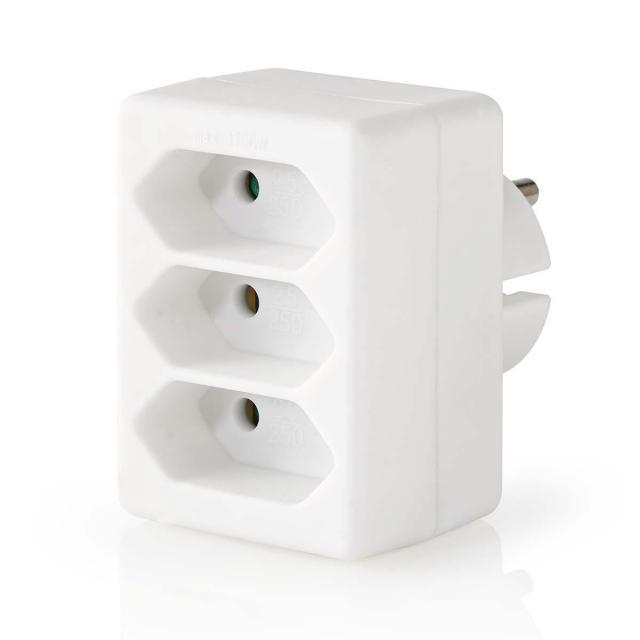typeb: (117, 52, 378, 577)
